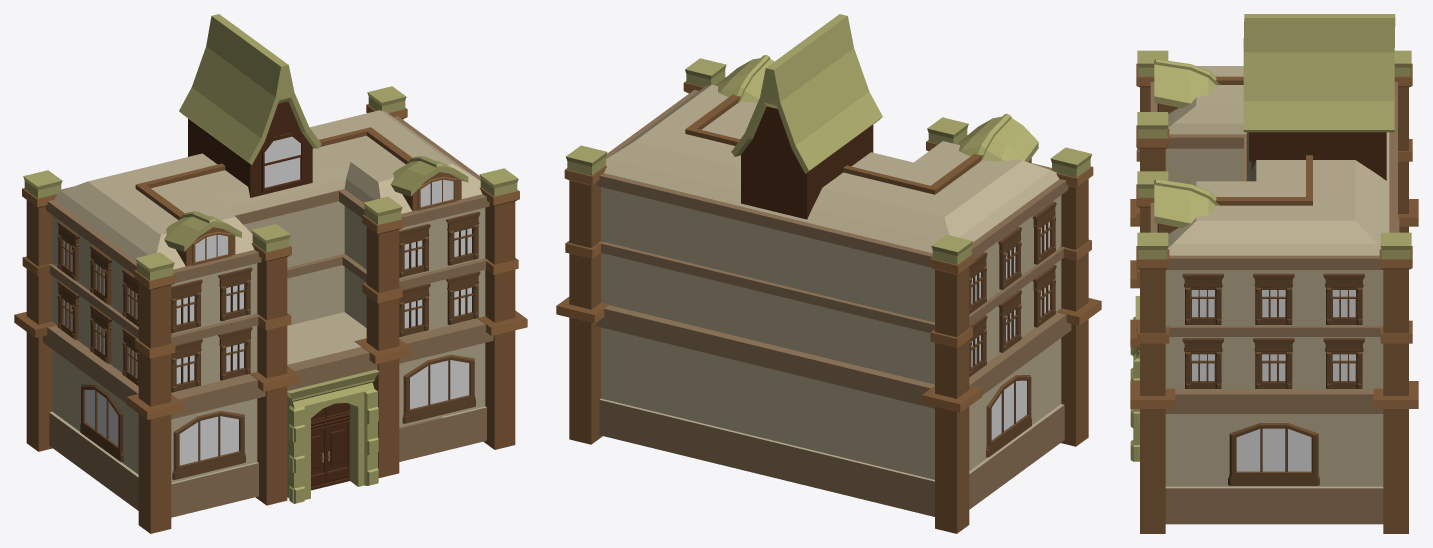
File: RichBuildingColoured.fbx
3 views of the same model, side by side, from view 1: azimuth 30°, elevation 25°; view 2: azimuth 150°, elevation 25°; view 3: azimuth 270°, elevation 25° (orthographic). The views are drawn at different scales.
Parts seen in each view (by area): view 1: RichBuilding; view 2: RichBuilding; view 3: RichBuilding.
Boxes of the visible parts, <box> form: RichBuilding: <box>14,14,527,533</box>; RichBuilding: <box>556,14,1101,533</box>; RichBuilding: <box>1130,14,1418,533</box>.
Bounding box in the file's own units: 1763 × 1068 × 1730.
